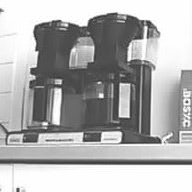empty coffee: (25, 72, 79, 132)
not empty coffee: (80, 71, 139, 132)
